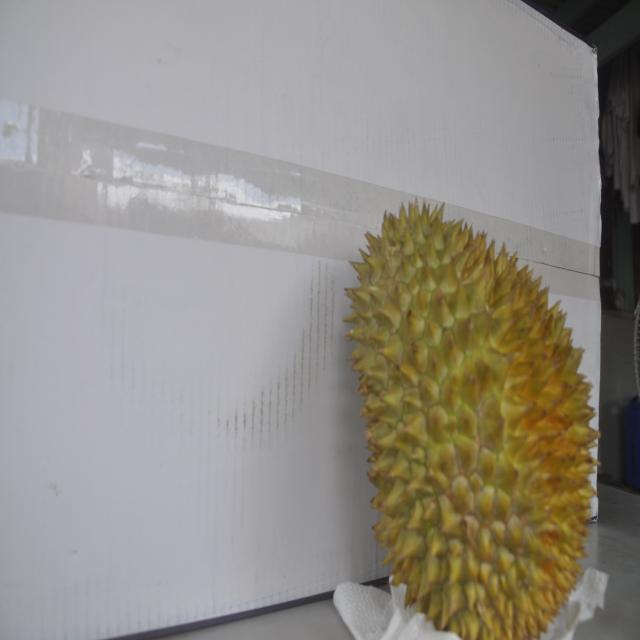mature: (341, 196, 601, 636)
